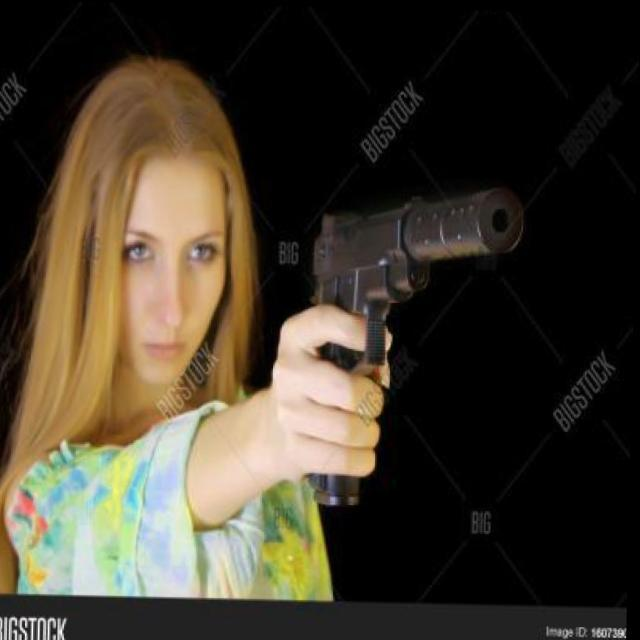weapon: (288, 172, 542, 514)
